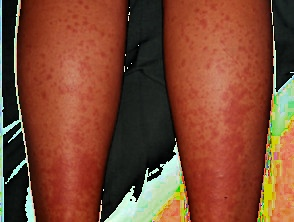SJS-TEN: (28, 0, 118, 222), (182, 2, 265, 220)
